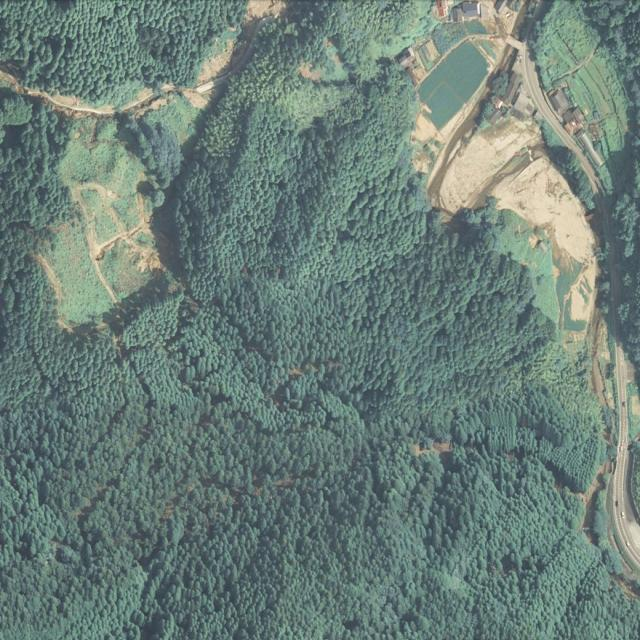landslide: (440, 116, 598, 334)
